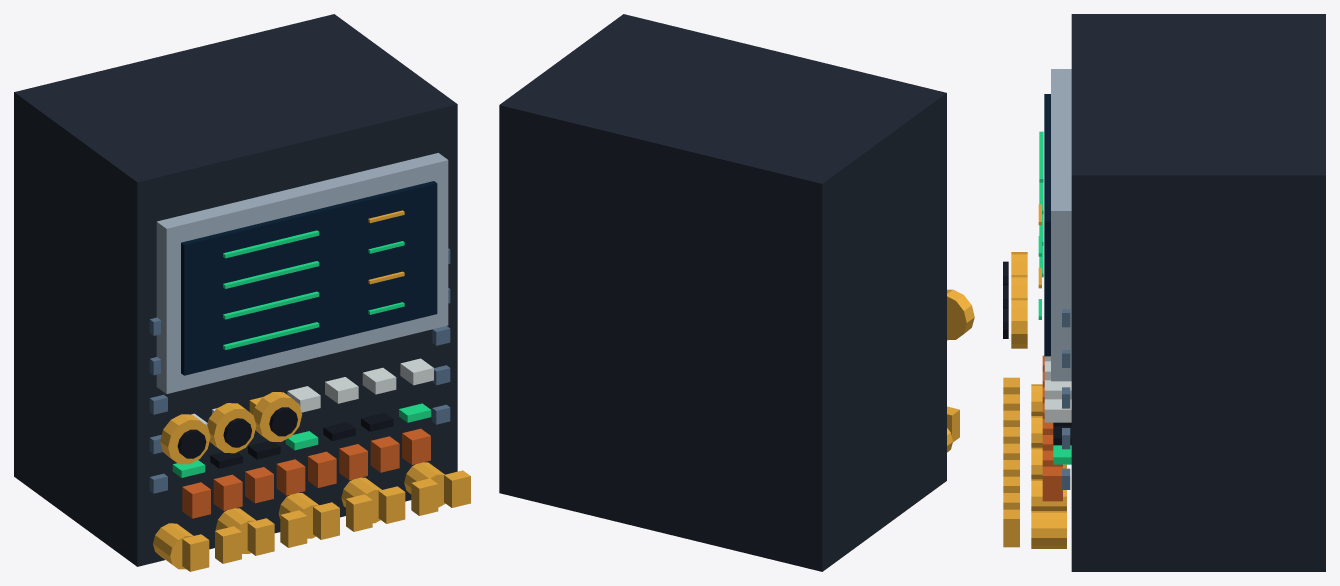
Rendered from 71_L86_IndependentContactSafetyRelay.fbx.
3 views of the same model, side by side, from view 1: azimuth 30°, elevation 25°; view 2: azimuth 150°, elevation 25°; view 3: azimuth 270°, elevation 25° (orthographic). The views are drawn at different scales.
Visible parts, largest first — view 1: L86_IndependentContactSafetyRelay, L86_IndependentContactSafetyRelay_Part_0011, L86_IndependentContactSafetyRelay_Part_0015, L86_IndependentContactSafetyRelay_Part_0013, L86_IndependentContactSafetyRelay_Part_0012, L86_IndependentContactSafetyRelay_Part_0016, L86_IndependentContactSafetyRelay_Part_0014; view 2: L86_IndependentContactSafetyRelay, L86_IndependentContactSafetyRelay_Part_0011; view 3: L86_IndependentContactSafetyRelay, L86_IndependentContactSafetyRelay_Part_0015.
Part boxes in pixels (bbox=[...]): L86_IndependentContactSafetyRelay: bbox=[14, 14, 470, 571]; L86_IndependentContactSafetyRelay_Part_0011: bbox=[160, 414, 210, 464]; L86_IndependentContactSafetyRelay_Part_0015: bbox=[253, 392, 302, 441]; L86_IndependentContactSafetyRelay_Part_0013: bbox=[207, 403, 256, 453]; L86_IndependentContactSafetyRelay_Part_0012: bbox=[177, 429, 206, 458]; L86_IndependentContactSafetyRelay_Part_0016: bbox=[269, 407, 297, 436]; L86_IndependentContactSafetyRelay_Part_0014: bbox=[223, 418, 251, 447]; L86_IndependentContactSafetyRelay: bbox=[499, 14, 959, 571]; L86_IndependentContactSafetyRelay_Part_0011: bbox=[947, 289, 974, 340]; L86_IndependentContactSafetyRelay: bbox=[1003, 14, 1325, 571]; L86_IndependentContactSafetyRelay_Part_0015: bbox=[1011, 298, 1027, 348].
Size of the model in its own units: 97.92 by 112 by 82.84.
